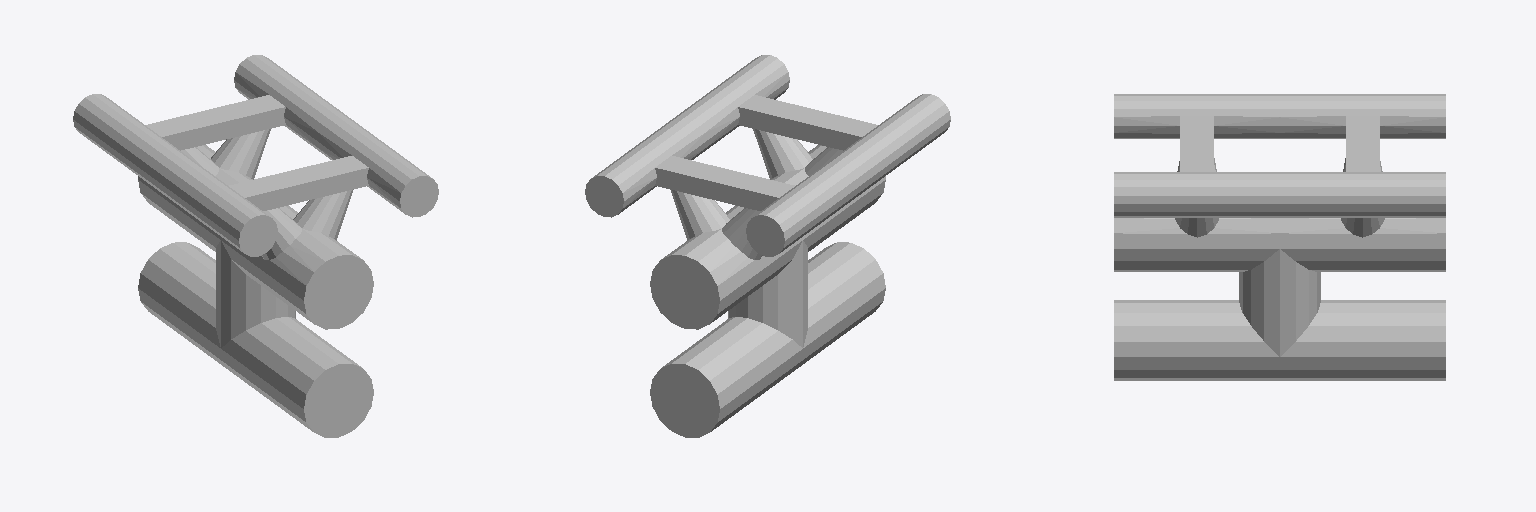
File: intamindouble.obj
3 views of the same model, side by side, from view 1: azimuth 30°, elevation 25°; view 2: azimuth 150°, elevation 25°; view 3: azimuth 270°, elevation 25° (orthographic).
Bounding box in the file's own units: 1.15 × 1.33 × 1.65.